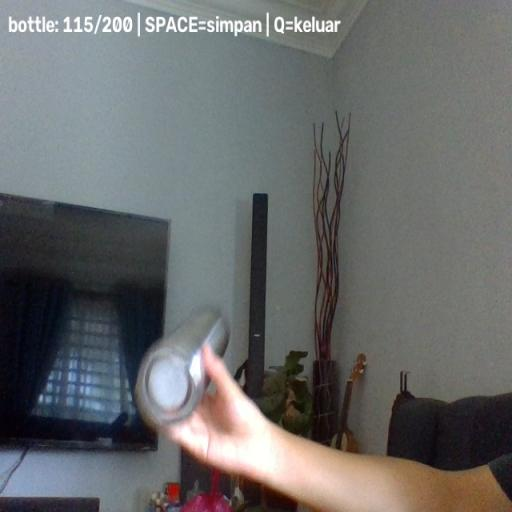Bottle: (132, 305, 230, 428)
